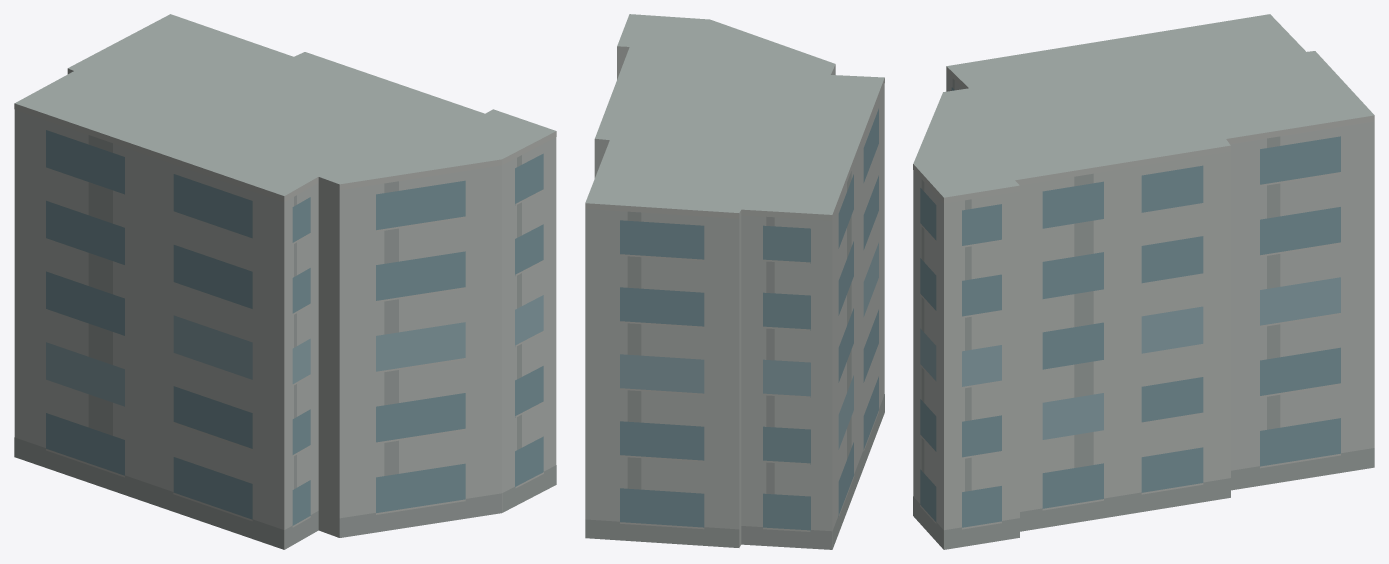
The model's file is survey-upis-32809173.glb.
3 views of the same model, side by side, from view 1: azimuth 30°, elevation 25°; view 2: azimuth 150°, elevation 25°; view 3: azimuth 270°, elevation 25° (orthographic). The views are drawn at different scales.
Visible parts, largest first — view 1: survey-upis-32809173.tmp; view 2: survey-upis-32809173.tmp; view 3: survey-upis-32809173.tmp.
Part boxes in pixels (<box>): survey-upis-32809173.tmp: <box>14,14,556,549</box>; survey-upis-32809173.tmp: <box>585,14,884,549</box>; survey-upis-32809173.tmp: <box>913,14,1374,549</box>.
Bounding box in the file's own units: 16.01 × 14.3 × 17.
